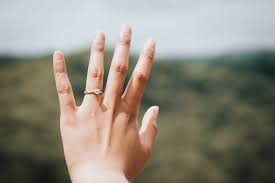hand: (36, 20, 175, 180)
